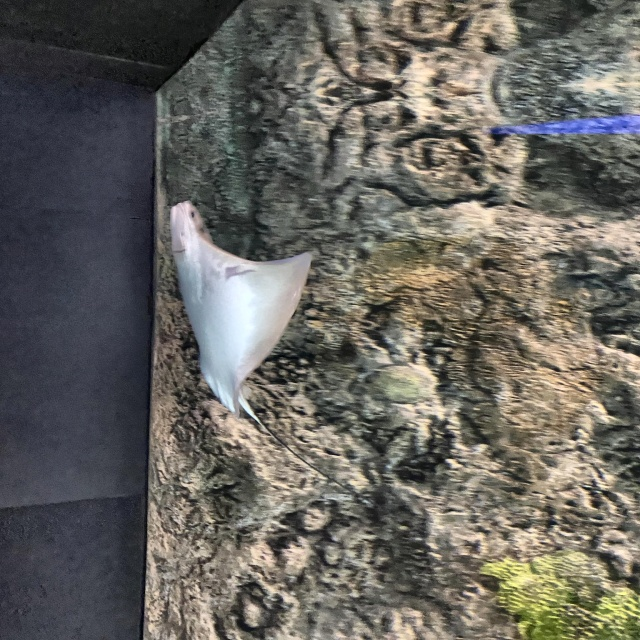stingray: (167, 202, 304, 416)
